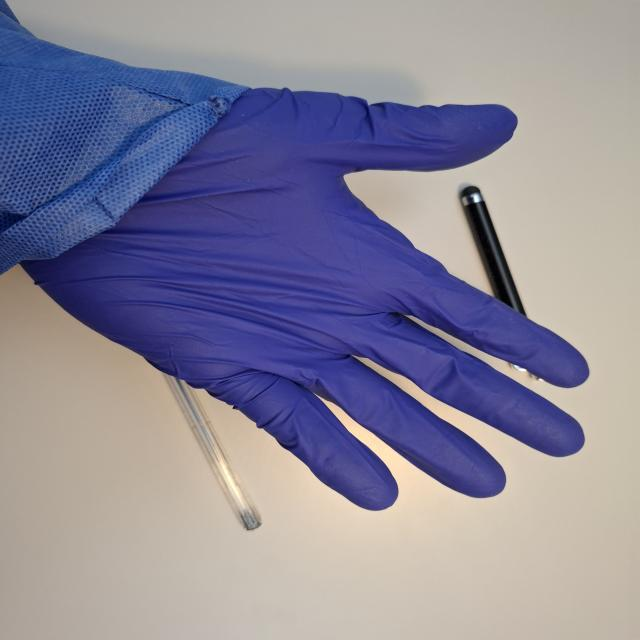glove_on: (9, 69, 594, 512)
